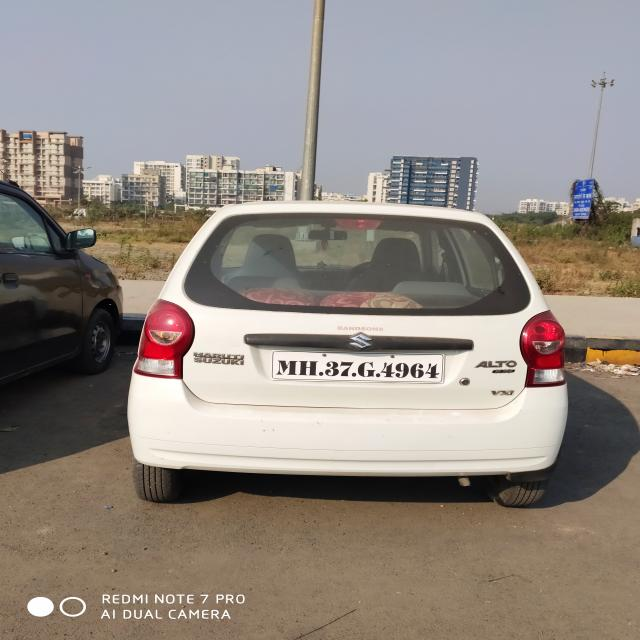Number-Plate: (272, 353, 450, 385)
